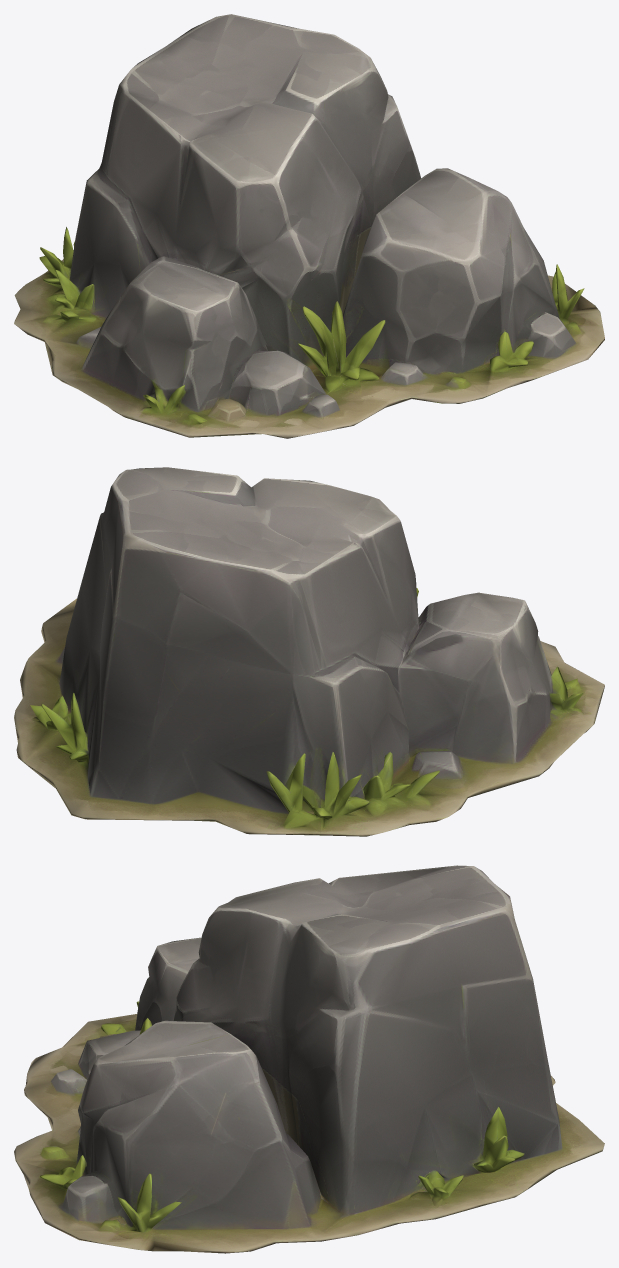
Rendered from Stone2.fbx.
3 renders of one model, top to bottom at view 1: azimuth 30°, elevation 25°; view 2: azimuth 150°, elevation 25°; view 3: azimuth 270°, elevation 25°, orthographic. The views are drawn at different scales.
Visible parts, largest first — view 1: Mesh_0; view 2: Mesh_0; view 3: Mesh_0.
Boxes of the visible parts, left/top/right/bottom form: Mesh_0: left=14, top=14, right=604, bottom=438; Mesh_0: left=14, top=467, right=604, bottom=836; Mesh_0: left=14, top=865, right=604, bottom=1253.
Bounding box in the file's own units: 191 × 85.75 × 191.
1 material, 1 textured.
